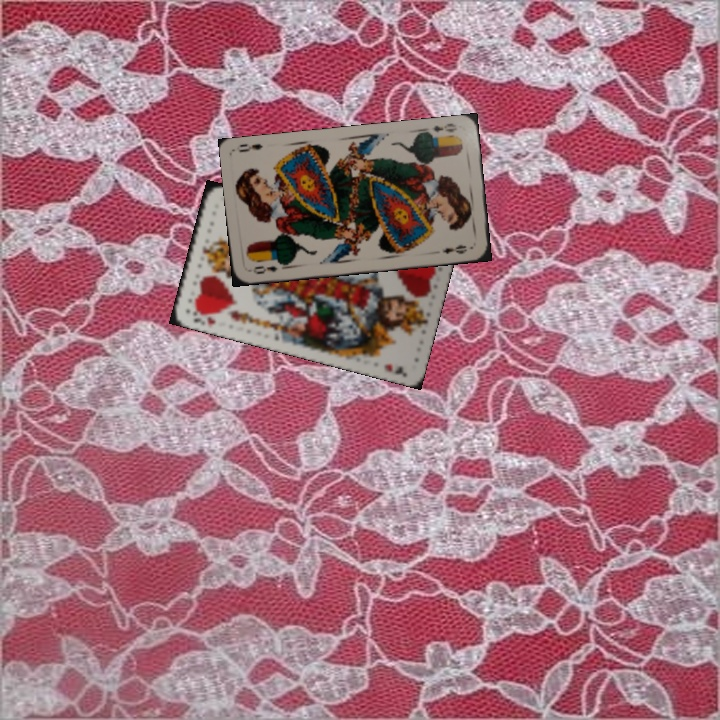EO: (421, 119, 459, 140), (249, 262, 280, 277)
HK: (188, 305, 219, 329)
